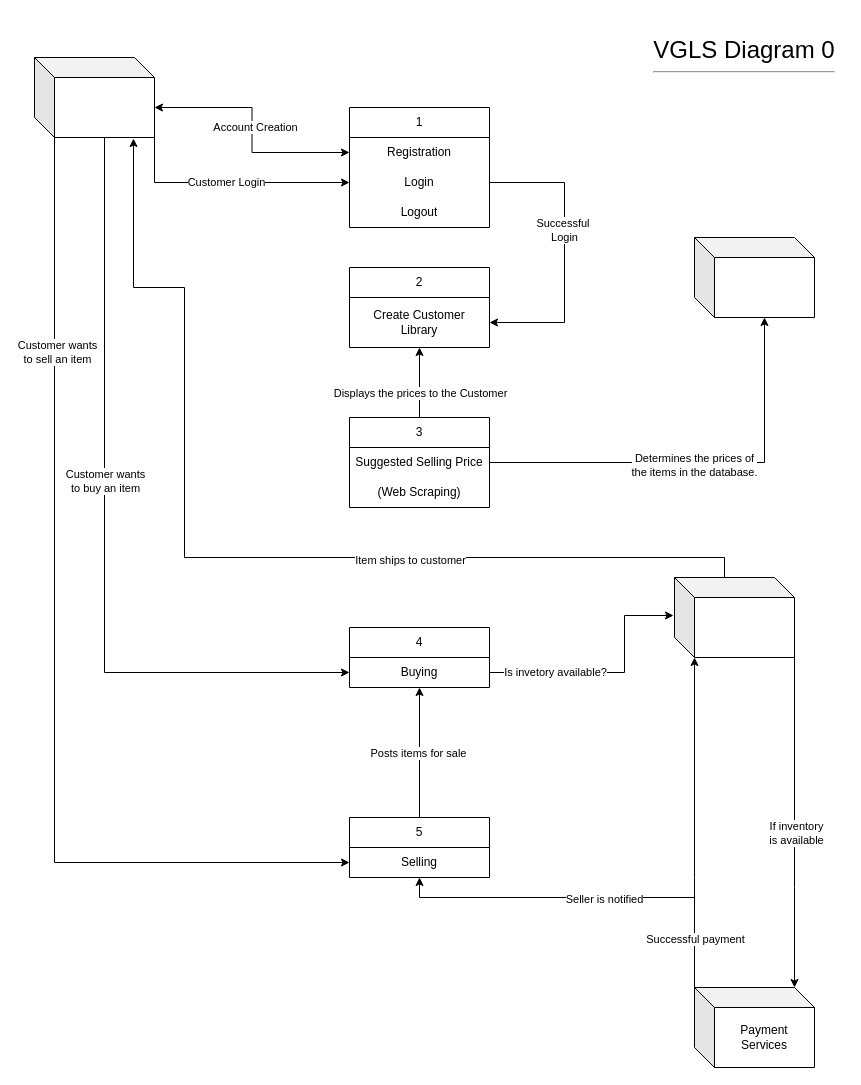
Image size: 861x1085. Some labels were removed from this diagram. Each missing label, with the centre of its shape:
"Customer" goes at point 94,97.
"External Websites" goes at point 754,277.
"Warehouse" goes at point 734,617.
